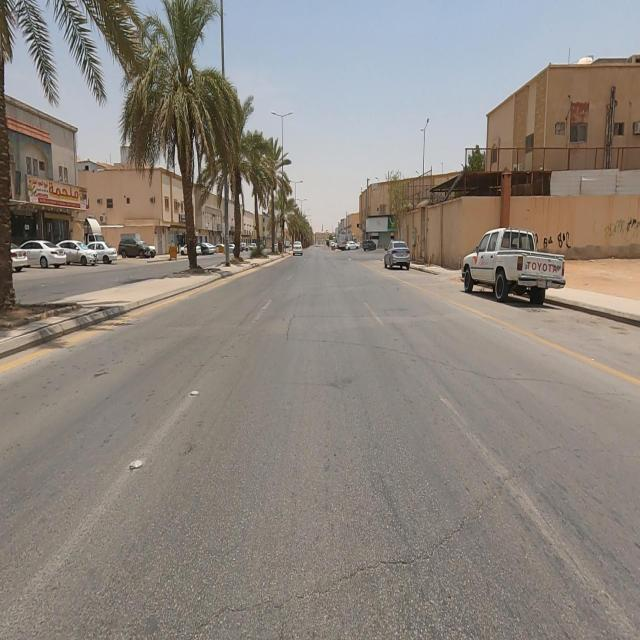Graffiti: (605, 215, 640, 242), (544, 231, 578, 251)
